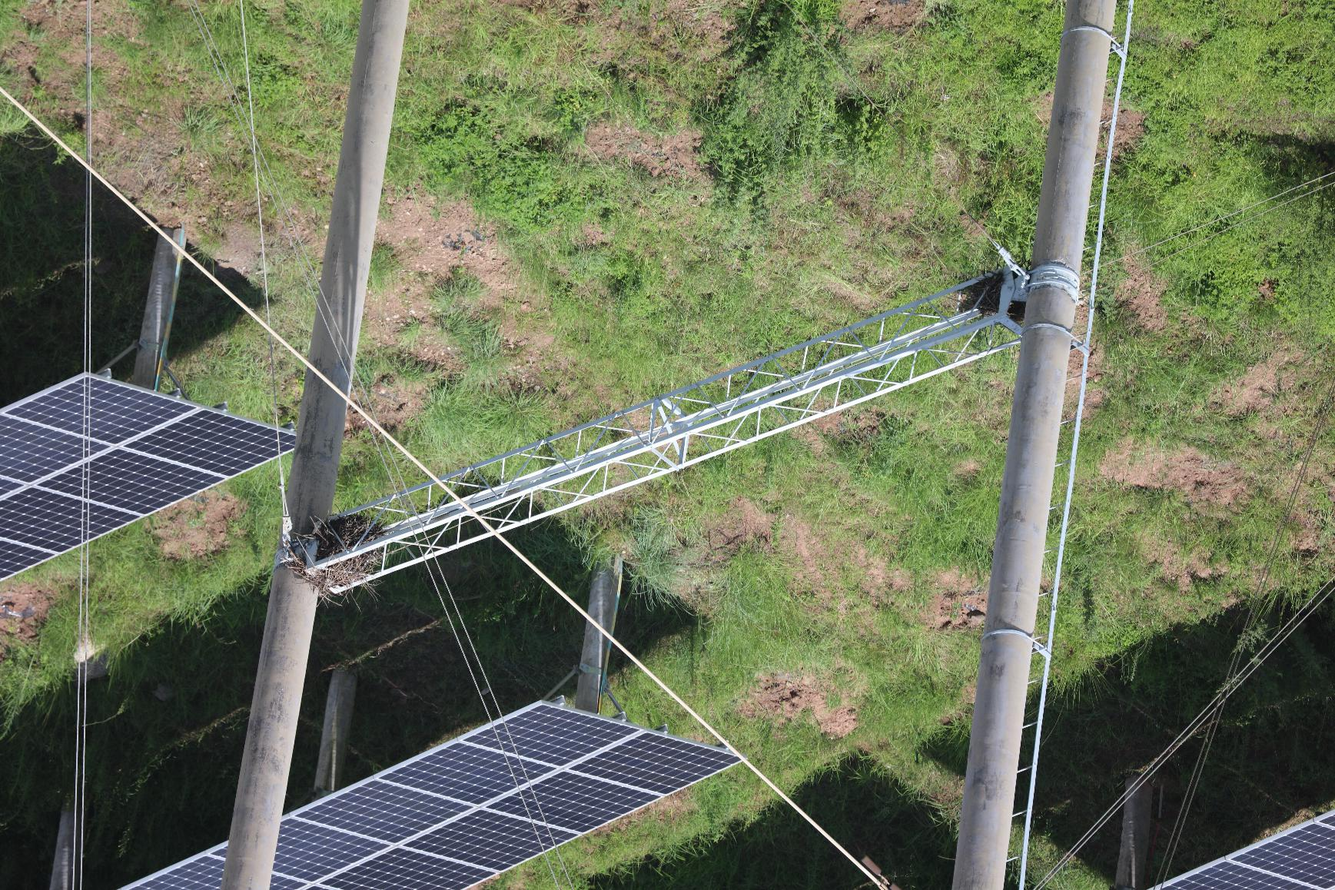damper: (855, 851, 906, 890)
nest: (288, 510, 393, 601), (955, 270, 1026, 325)
